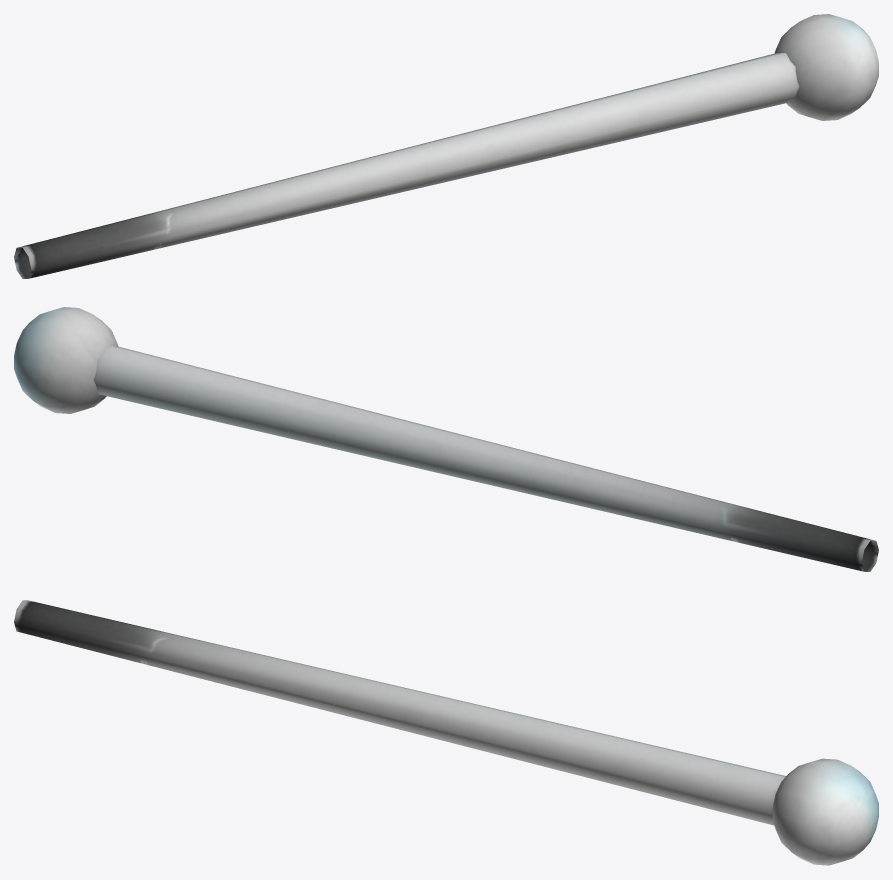
Rendered from SK_Vehicles_Saxo_Gearstick.FBX.
3 renders of one model, top to bottom at view 1: azimuth 30°, elevation 25°; view 2: azimuth 150°, elevation 25°; view 3: azimuth 330°, elevation 25°, orthographic.
Visible parts, largest first — view 1: SK_Vehicles_Saxo_Gearstick; view 2: SK_Vehicles_Saxo_Gearstick; view 3: SK_Vehicles_Saxo_Gearstick.
Boxes of the visible parts, box(x1,y1,x2,y2) form: SK_Vehicles_Saxo_Gearstick: box(14, 14, 878, 278); SK_Vehicles_Saxo_Gearstick: box(14, 307, 878, 571); SK_Vehicles_Saxo_Gearstick: box(14, 600, 878, 865).
Bounding box in the file's own units: 56.71 × 6.23 × 6.07.
1 material, 1 textured.
